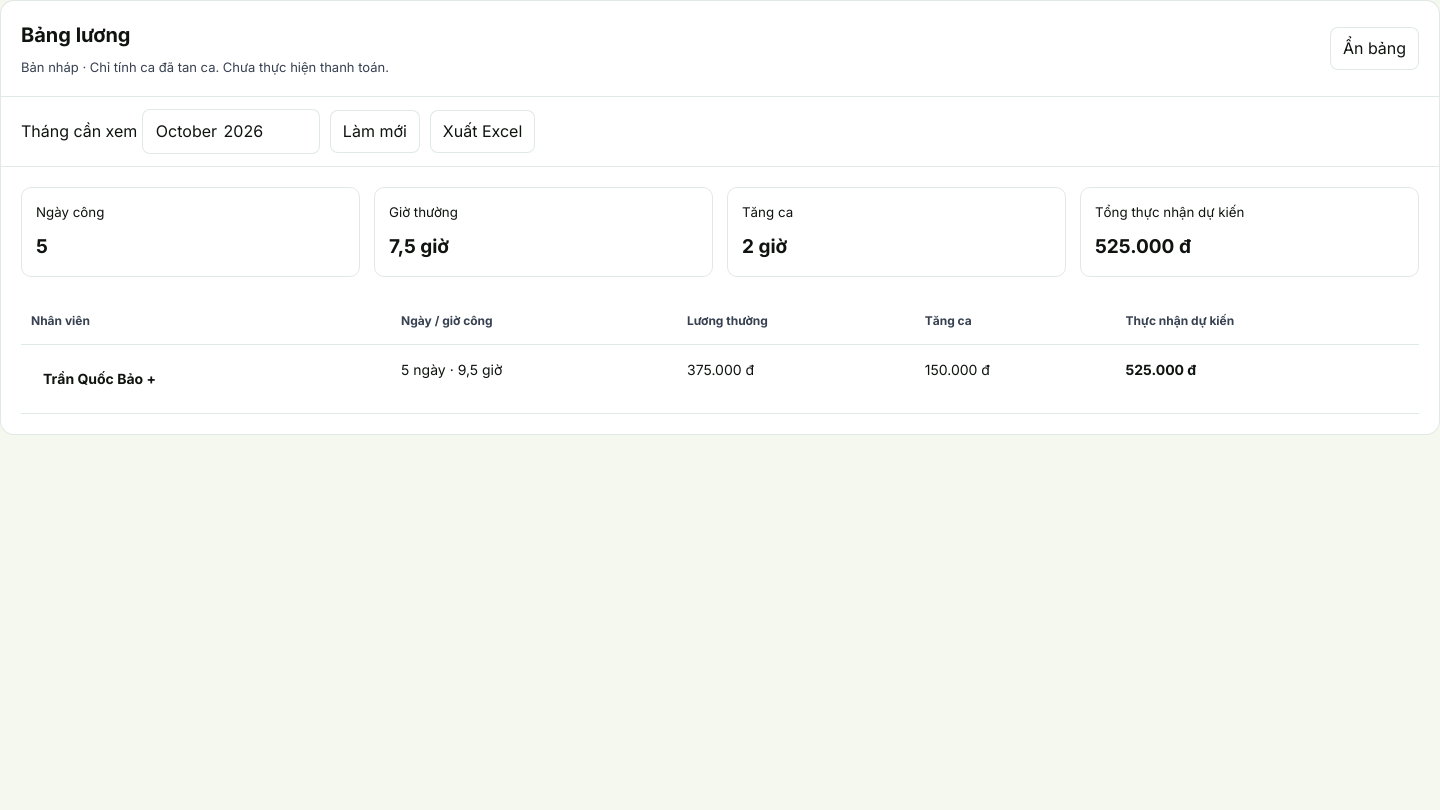
Test: PayrollPanel › never claims GPS or photo verification without recorded evidence
Click the button "Trần Quốc Bảo +". click: (100, 379)
box: left=31, top=359, right=168, bottom=399
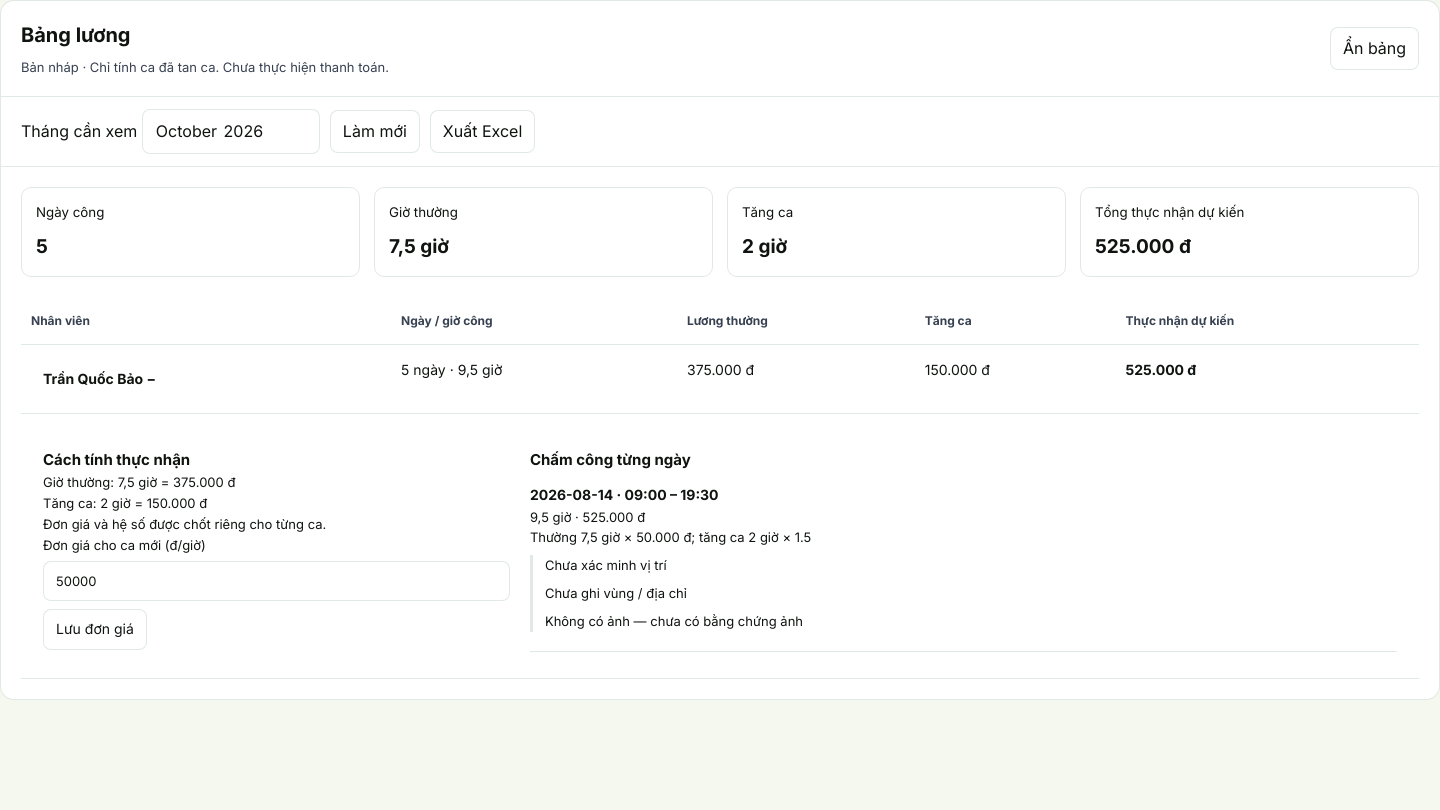
Check: the text "Chưa xác minh vị trí" is shown, box left=545, top=557, right=667, bottom=573
Check: the text "Không có ảnh — chưa có bằng chứng ảnh" is shown, box left=545, top=613, right=803, bottom=629
